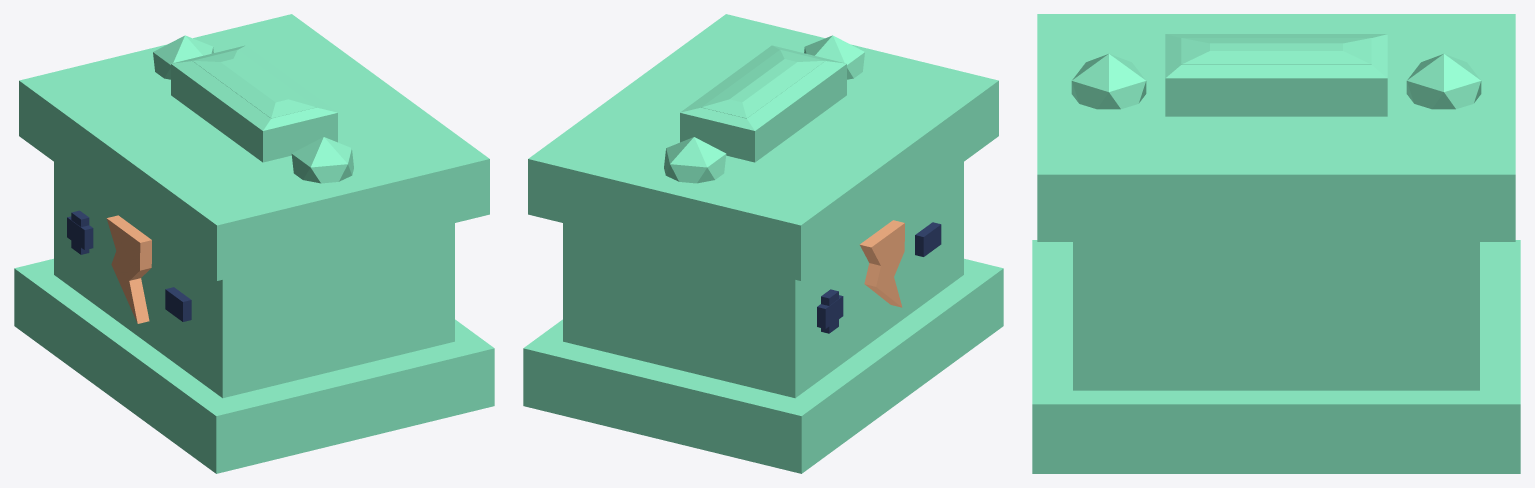
The model's file is bateria gorda.fbx.
The picture shows the model from 3 angles, left to right: view 1: azimuth 30°, elevation 25°; view 2: azimuth 150°, elevation 25°; view 3: azimuth 270°, elevation 25°; orthographic projection. The views are drawn at different scales.
Parts seen in each view (by area): view 1: Cubo, Cilindro, Esfera geodésica.001, Esfera geodésica, Cubo.002, Cubo.001; view 2: Cubo, Cilindro, Esfera geodésica, Esfera geodésica.001, Cubo.002, Cubo.001; view 3: Cubo, Esfera geodésica, Esfera geodésica.001.
Boxes of the visible parts, <box> form: Cubo: <box>14,14,494,473</box>; Cilindro: <box>106,215,151,323</box>; Esfera geodésica.001: <box>291,137,353,183</box>; Esfera geodésica: <box>153,35,213,79</box>; Cubo.002: <box>67,210,93,254</box>; Cubo.001: <box>165,287,191,321</box>; Cubo: <box>523,14,1003,473</box>; Cilindro: <box>859,220,904,307</box>; Esfera geodésica: <box>664,137,726,183</box>; Esfera geodésica.001: <box>804,35,864,79</box>; Cubo.002: <box>817,289,843,333</box>; Cubo.001: <box>915,222,941,256</box>; Cubo: <box>1032,14,1520,473</box>; Esfera geodésica: <box>1406,54,1481,109</box>; Esfera geodésica.001: <box>1071,54,1146,109</box>.
Size of the model in its own units: 54.93 by 53.81 by 69.06.
